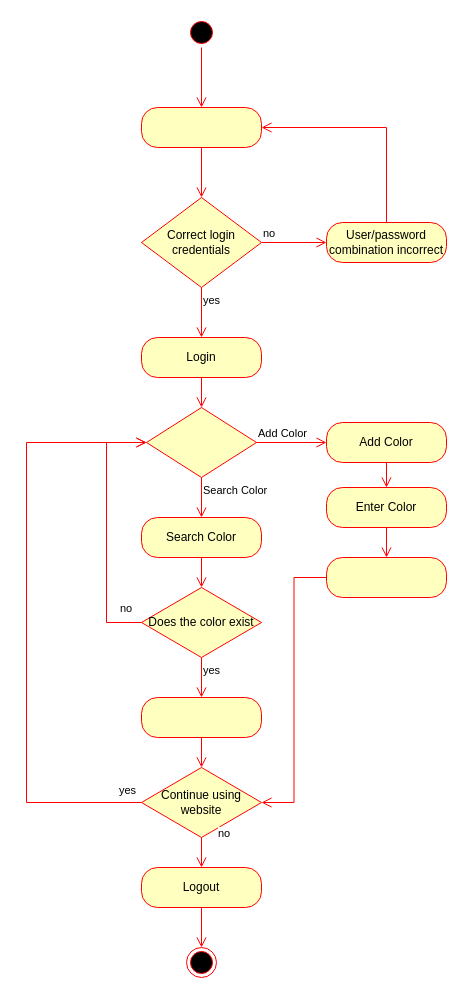
The diagram is 464 pixels wide and 995 high, and some of its shapes have lost their labels. The box of each missing label's shape, as (x1, y1, x2, y2) in pixels:
Add or Search: (146, 406, 256, 478)
Confirmation Message: (326, 556, 446, 598)
Enter username and password: (140, 106, 262, 148)
Show color: (140, 696, 262, 738)
